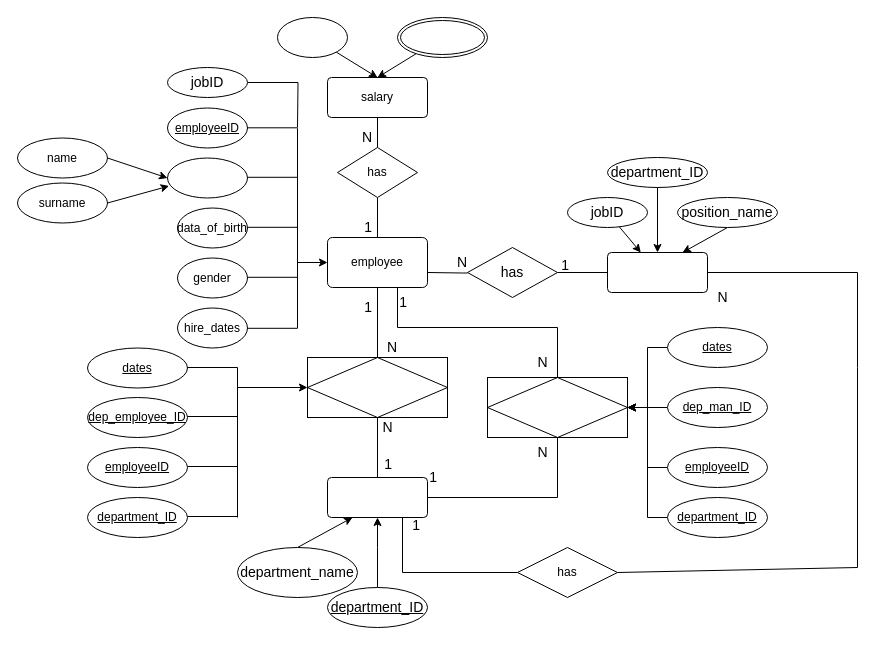
The diagram is 876 pixels wide and 645 high, and some of its shapes have lost their labels. The box of each missing label's shape, as (x1, y1, x2, y2) in pixels:
depart_employee: (306, 356, 448, 418)
depart_manager: (486, 376, 628, 438)
department: (326, 476, 428, 518)
job_title: (606, 252, 708, 292)
name_surname: (166, 157, 248, 198)
salary_records: (396, 16, 488, 58)
salaryID: (276, 16, 348, 58)
